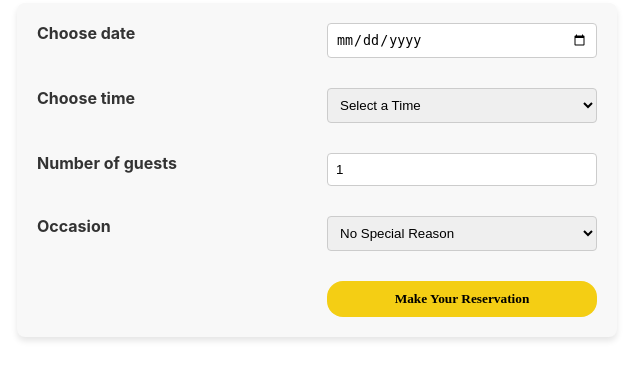
Test: BookingForm JavaScript Validation › validates number of guests is within the allowed range
Replace the text in the number field labelled "Number of guests" with "0" at (462, 170), box left=327, top=153, right=597, bottom=186
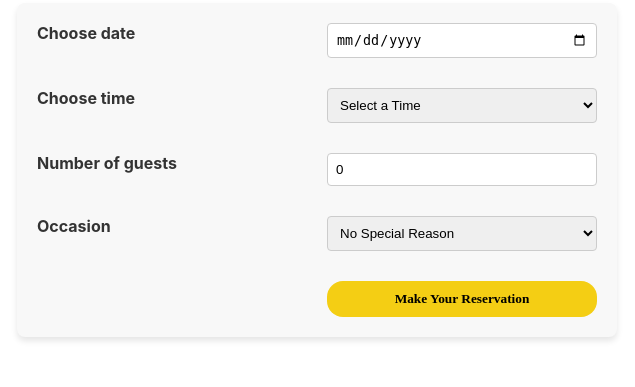
Leave the number field labelled "Number of guests", box left=327, top=153, right=597, bottom=186
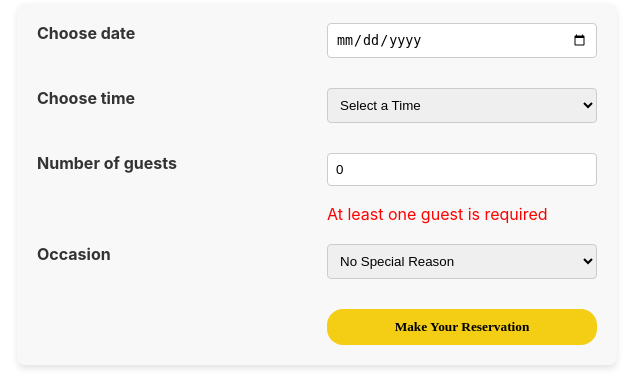
Now the text "At least one guest is required" is shown, box left=327, top=204, right=548, bottom=224
